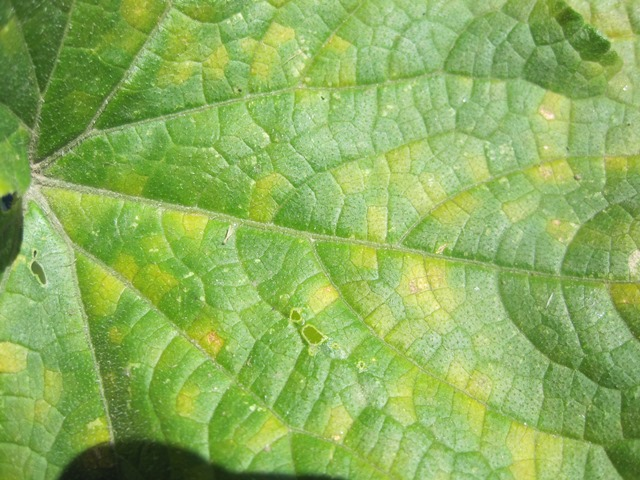downy: (68, 185, 237, 354), (339, 203, 471, 335), (363, 352, 490, 480), (107, 3, 231, 127), (516, 91, 640, 215), (1, 344, 106, 450), (229, 393, 309, 474), (244, 20, 318, 94), (561, 4, 629, 72), (505, 415, 569, 479), (387, 146, 444, 203), (156, 376, 211, 431), (239, 173, 291, 225), (322, 32, 374, 84), (316, 393, 365, 442), (295, 281, 339, 325), (96, 150, 140, 194), (330, 158, 373, 201), (464, 149, 506, 191), (601, 266, 640, 305), (542, 220, 579, 257)
